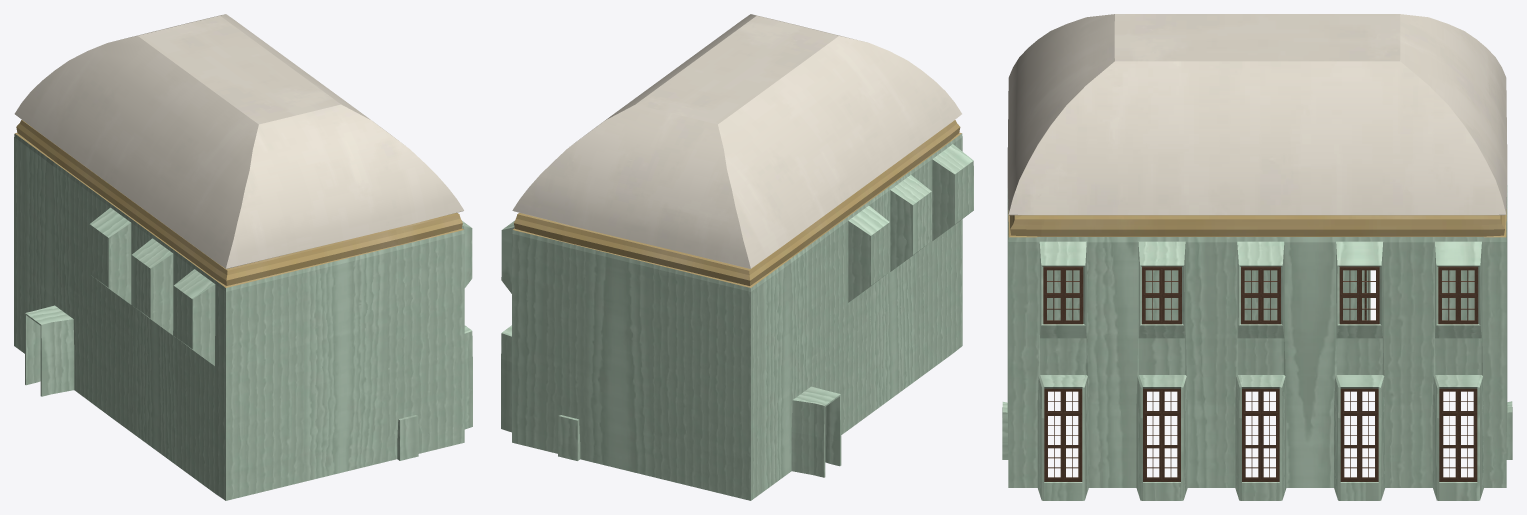
File: expalon-AcFeggXz.glb
The picture shows the model from 3 angles, left to right: view 1: azimuth 30°, elevation 25°; view 2: azimuth 150°, elevation 25°; view 3: azimuth 270°, elevation 25°; orthographic projection. The views are drawn at different scales.
Parts seen in each view (by area): view 1: Mur001, Toit; view 2: Mur001, Toit; view 3: Mur001, Toit, Box181, Box134.
Boxes of the visible parts, box(x1,y1,x2,y2) form: Mur001: box(14, 120, 472, 500); Toit: box(14, 14, 463, 268); Mur001: box(501, 120, 973, 500); Toit: box(512, 14, 961, 268); Mur001: box(1002, 185, 1512, 500); Toit: box(1007, 14, 1507, 215); Box181: box(1044, 388, 1477, 481); Box134: box(1043, 266, 1478, 324).
Bounding box in the file's own units: 19.51 × 20.63 × 25.01.
8 materials, 8 textured.
